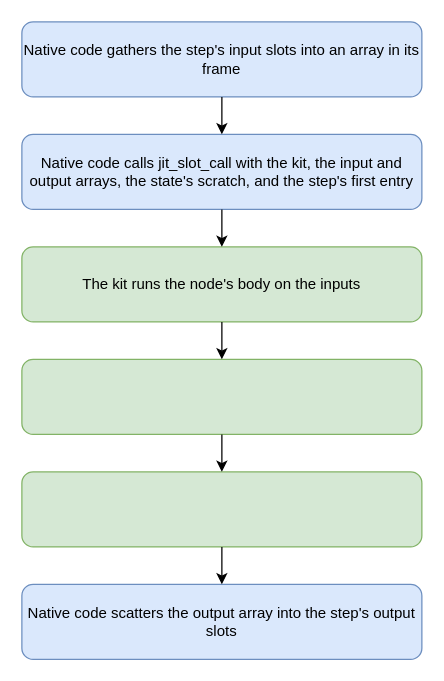
Image size: 444x681. Some labels were removed from this diagram. The centre of each missing label's shape, as x and y in pixels:
"The kit publishes each result's (pointer, length) pair into the output array" belongs at point 221,509.
"The kit writes each by-reference result into the step's own scratch entry" belongs at point 221,396.
